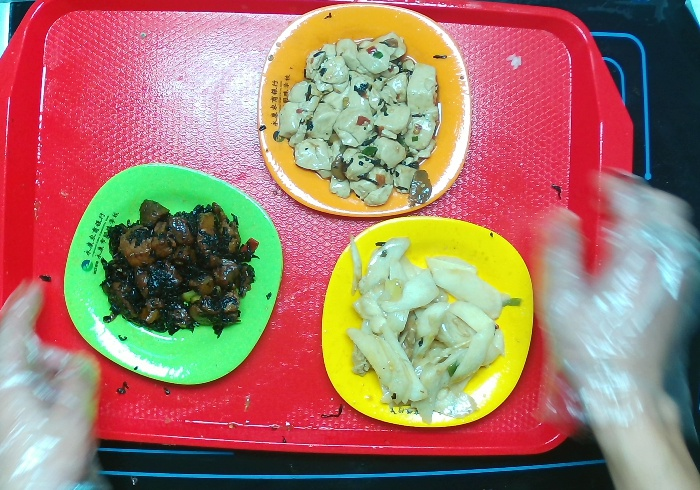YKMZ-Huang_Se_Fang_Die: (319, 213, 535, 429)
YKMZ-Ju_Se_Fang_Die: (256, 1, 474, 217)
YKMZ-Lv_Se_Fang_Die: (62, 162, 283, 391)
